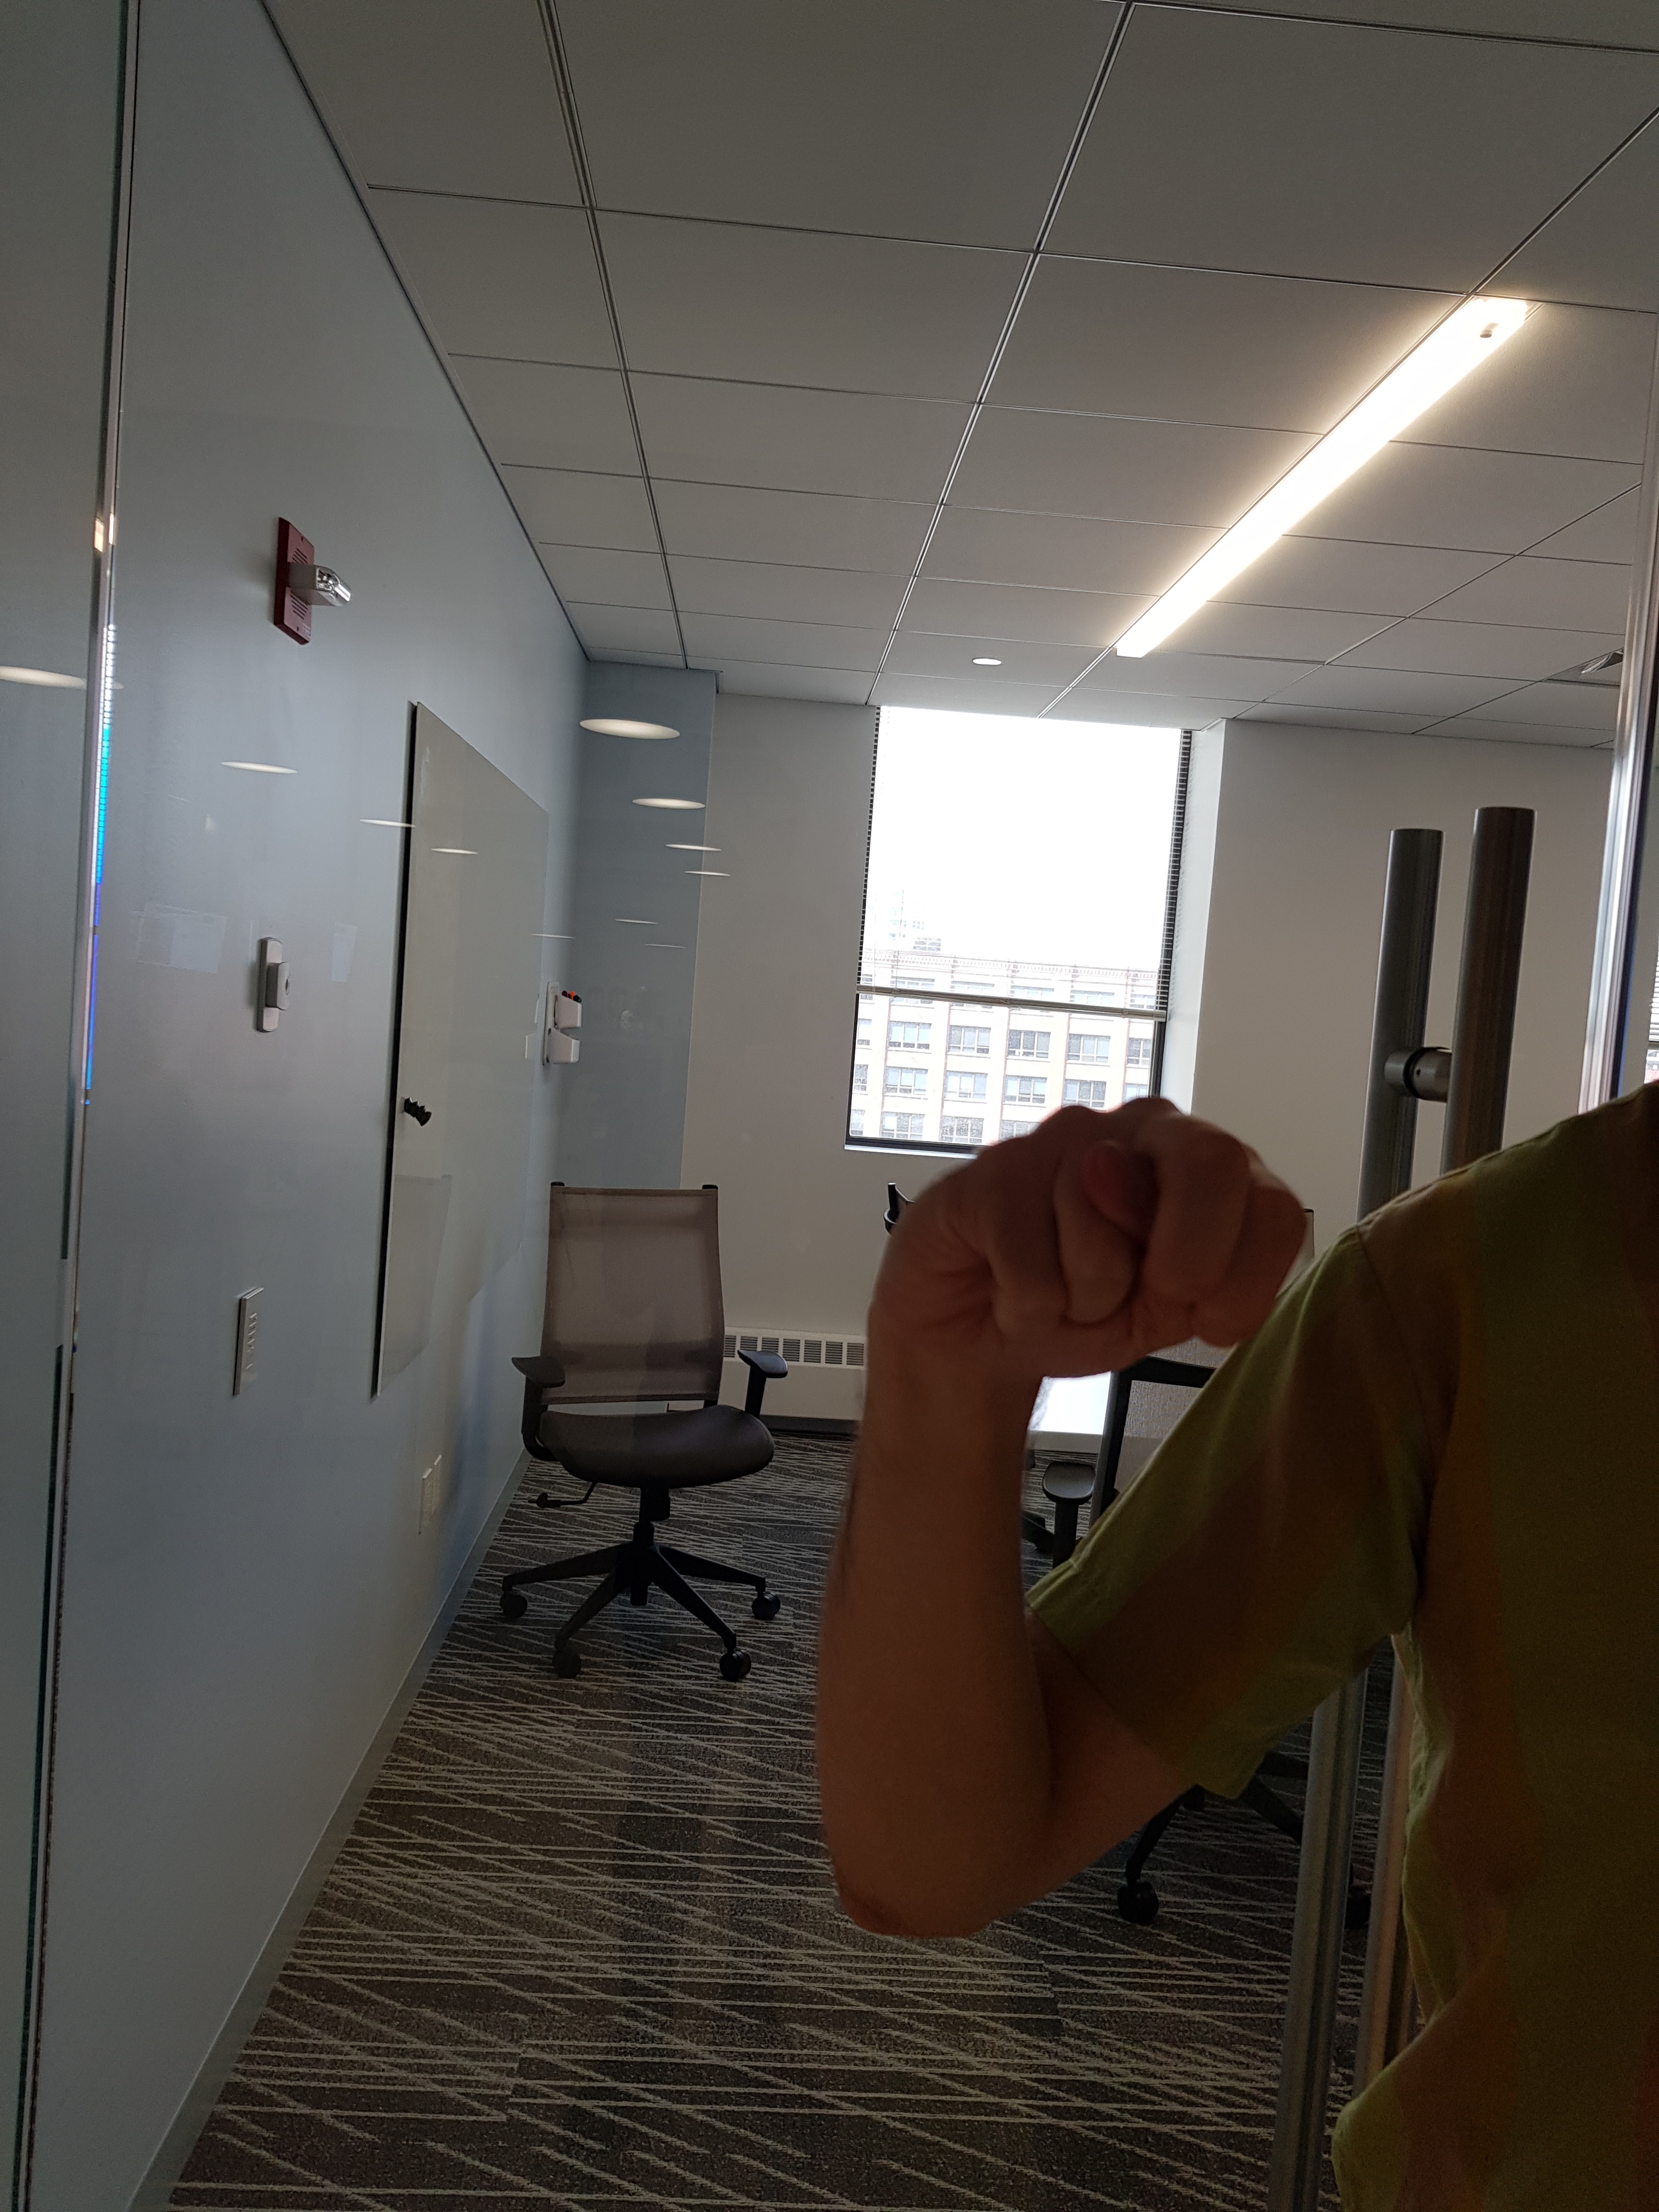n: (812, 1057, 1333, 1399)
